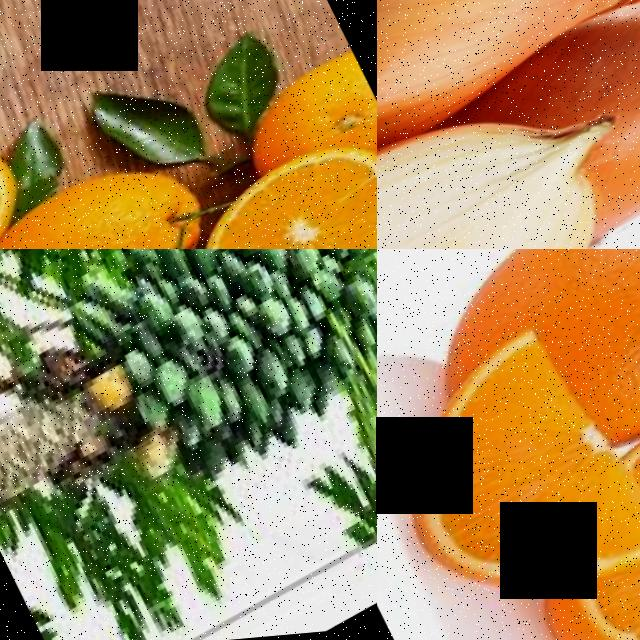onion: (377, 0, 637, 249), (377, 74, 614, 249), (516, 0, 640, 247)
orange: (381, 323, 640, 640), (501, 249, 640, 472), (179, 125, 377, 249), (0, 145, 213, 249)
pawpaw: (176, 374, 232, 444), (249, 357, 294, 412), (253, 296, 296, 348)
